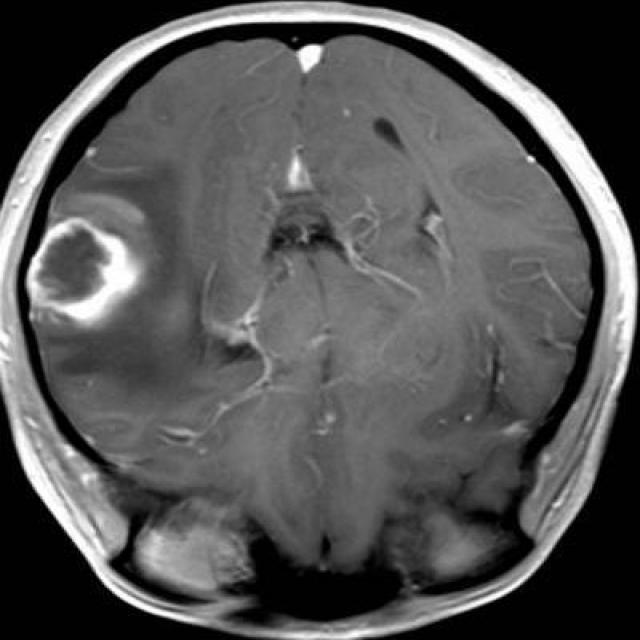Tumor: (21, 215, 139, 332)
